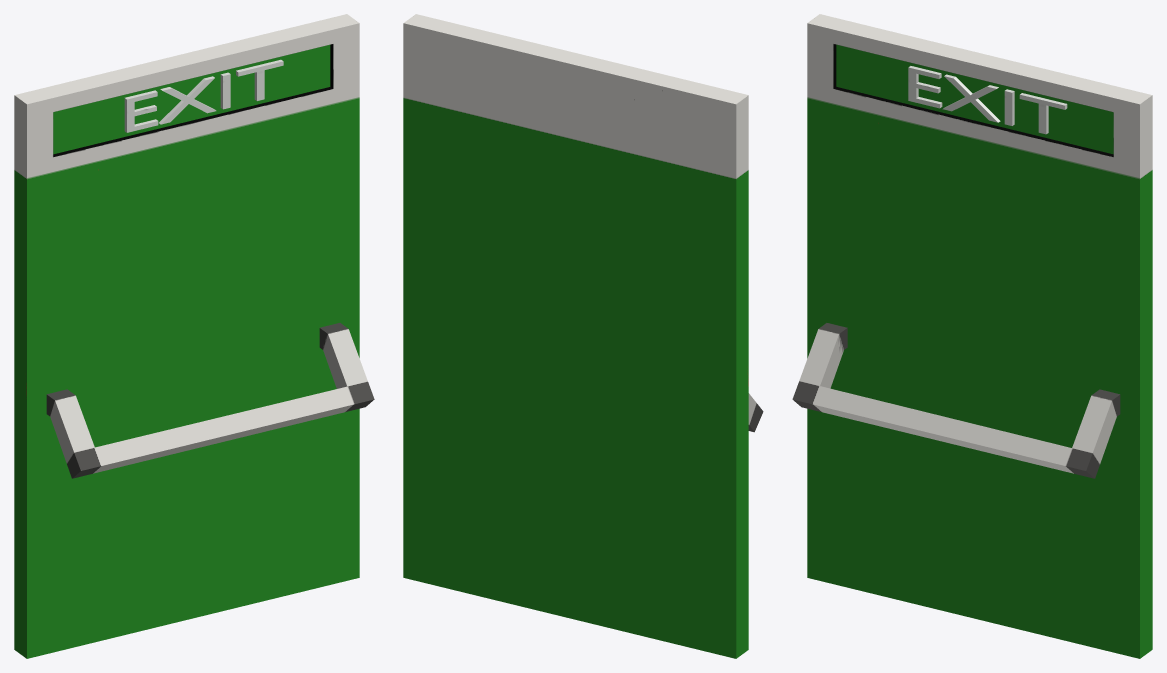
File: saida.fbx
The picture shows the model from 3 angles, left to right: view 1: azimuth 30°, elevation 25°; view 2: azimuth 150°, elevation 25°; view 3: azimuth 330°, elevation 25°; orthographic projection.
Parts seen in each view (by area): view 1: porta de saida; view 2: porta de saida; view 3: porta de saida.
Part boxes in pixels (x1,y1,x2,y2): porta de saida: [14, 14, 374, 658]; porta de saida: [403, 14, 763, 658]; porta de saida: [792, 14, 1152, 658].
Size of the model in its own units: 176 by 280 by 42.91.
